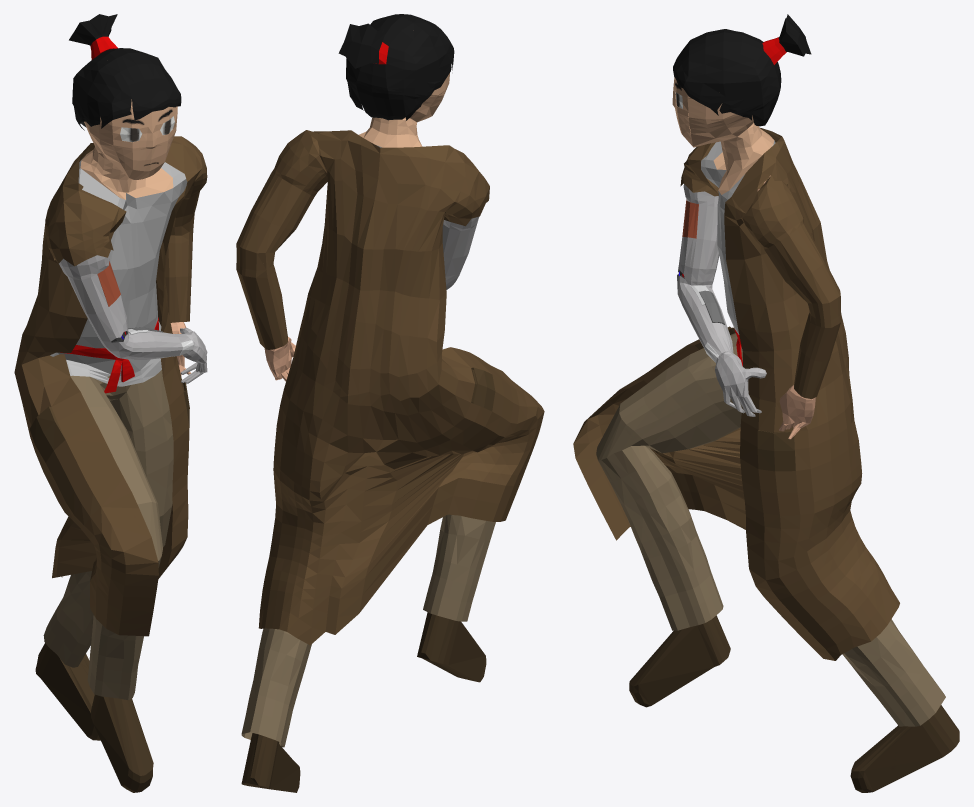
The model's file is One_RF_000021.obj.
3 renders of one model, left to right at view 1: azimuth 30°, elevation 25°; view 2: azimuth 150°, elevation 25°; view 3: azimuth 270°, elevation 25°, orthographic. The views are drawn at different scales.
Parts seen in each view (by area): view 1: Hair_Cube.004; view 2: Hair_Cube.004; view 3: Hair_Cube.004.
Boxes of the visible parts, <box> form: Hair_Cube.004: <box>14,14,207,792</box>; Hair_Cube.004: <box>236,14,544,792</box>; Hair_Cube.004: <box>573,14,959,792</box>.
Bounding box in the file's own units: 1.09 × 3.91 × 1.82.
